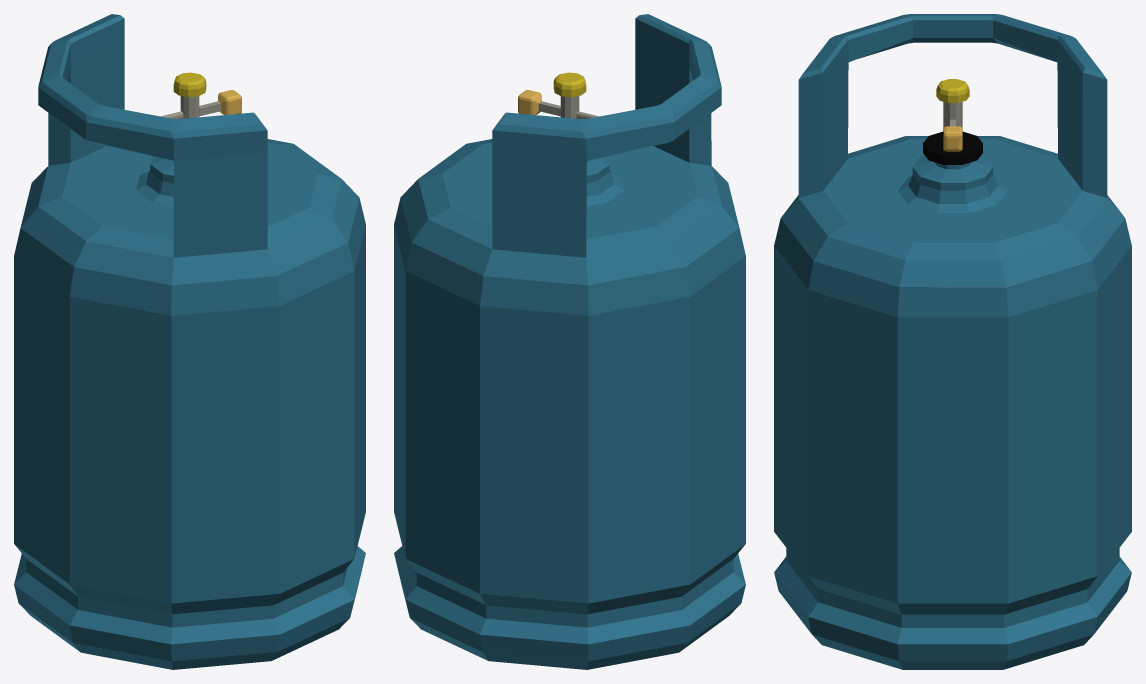
The model's file is GasTank.glb.
The picture shows the model from 3 angles, left to right: view 1: azimuth 30°, elevation 25°; view 2: azimuth 150°, elevation 25°; view 3: azimuth 270°, elevation 25°; orthographic projection.
Parts seen in each view (by area): view 1: Bombola.001; view 2: Bombola.001; view 3: Bombola.001.
Part boxes in pixels (x1,y1,x2,y2): Bombola.001: (14,14,365,669); Bombola.001: (394,14,745,669); Bombola.001: (774,14,1131,669).
Bounding box in the file's own units: 0.4944 × 0.8664 × 0.5199.
Materials: 1 (1 with a texture image).
